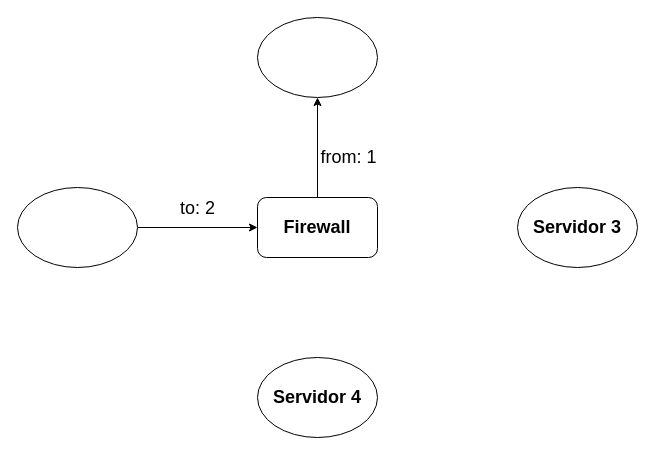
The diagram is 655 pixels wide and 455 high, and some of its shapes have lost their labels. The shapes that lost their labels are listed below. From the top down, each one's centre as x and y in pixels, then its label:
At point (317, 57): "Servidor 2".
At point (77, 227): "Servidor 1".
